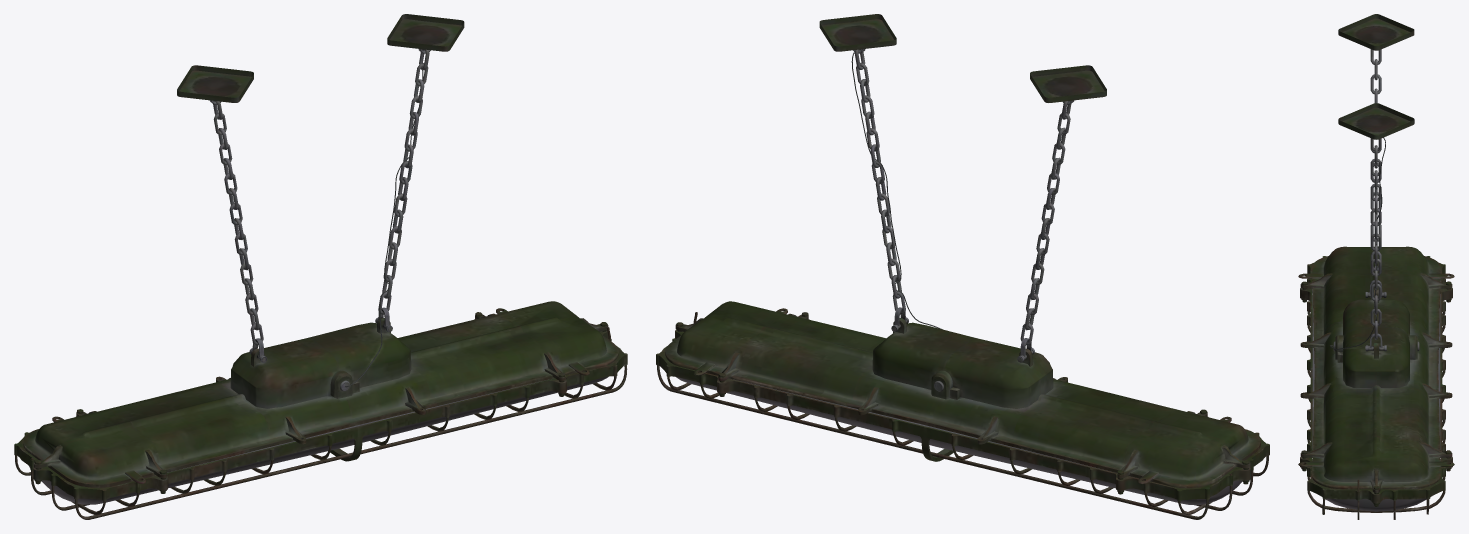
File: ind_caged_light.glb
The picture shows the model from 3 angles, left to right: view 1: azimuth 30°, elevation 25°; view 2: azimuth 150°, elevation 25°; view 3: azimuth 270°, elevation 25°; orthographic projection. The views are drawn at different scales.
Parts seen in each view (by area): view 1: caged_hanging_light; view 2: caged_hanging_light; view 3: caged_hanging_light.
Part boxes in pixels (x1,y1,x2,y2): caged_hanging_light: [14, 14, 627, 519]; caged_hanging_light: [656, 14, 1269, 519]; caged_hanging_light: [1298, 14, 1454, 519].
Bounding box in the file's own units: 1.16 × 0.7501 × 0.3149.
Materials: 1 (1 with a texture image).
